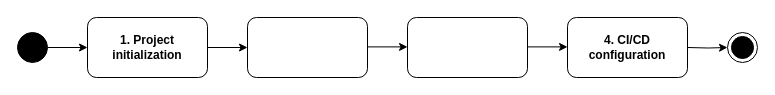
The diagram is 775 pixels wide and 95 high, and some of its shapes have lost their labels. Each missing label, with the centre of its shape:
2. Version control initialization: point 307,47
3. Cloud i nfrastructure provisioning: point 467,47
